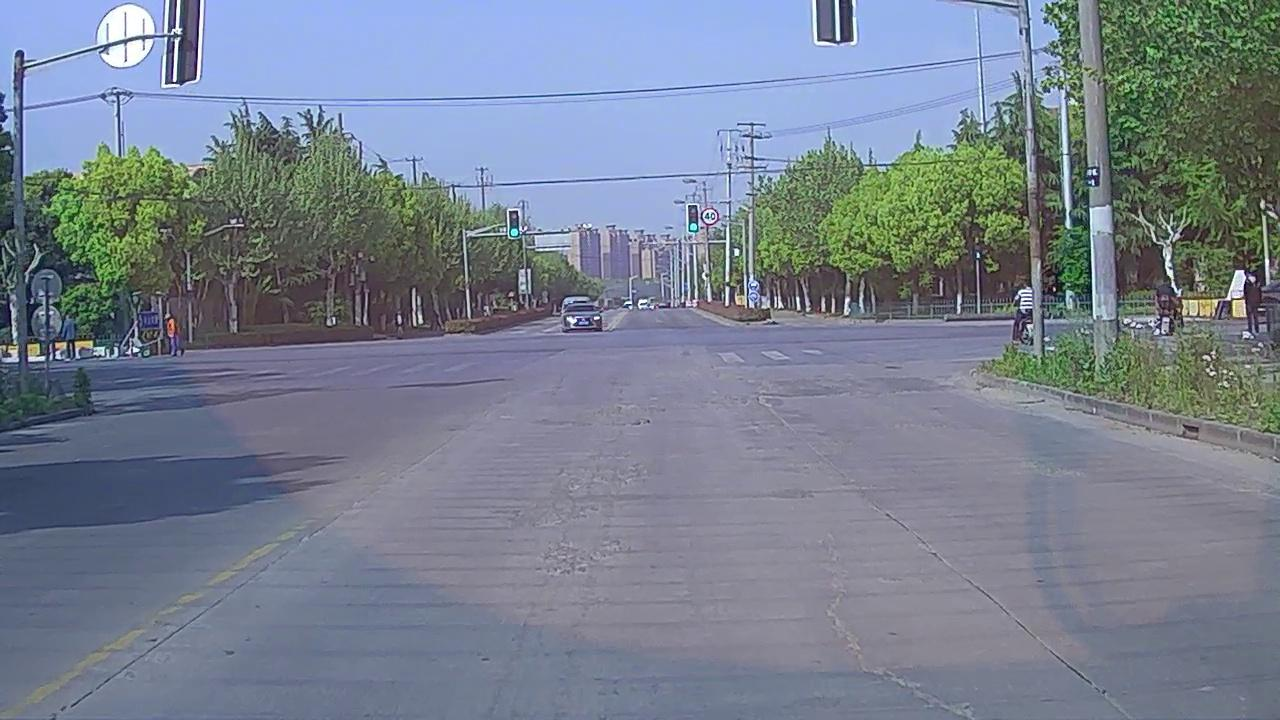traffic_light: (510, 210, 521, 238), (688, 203, 698, 232)
